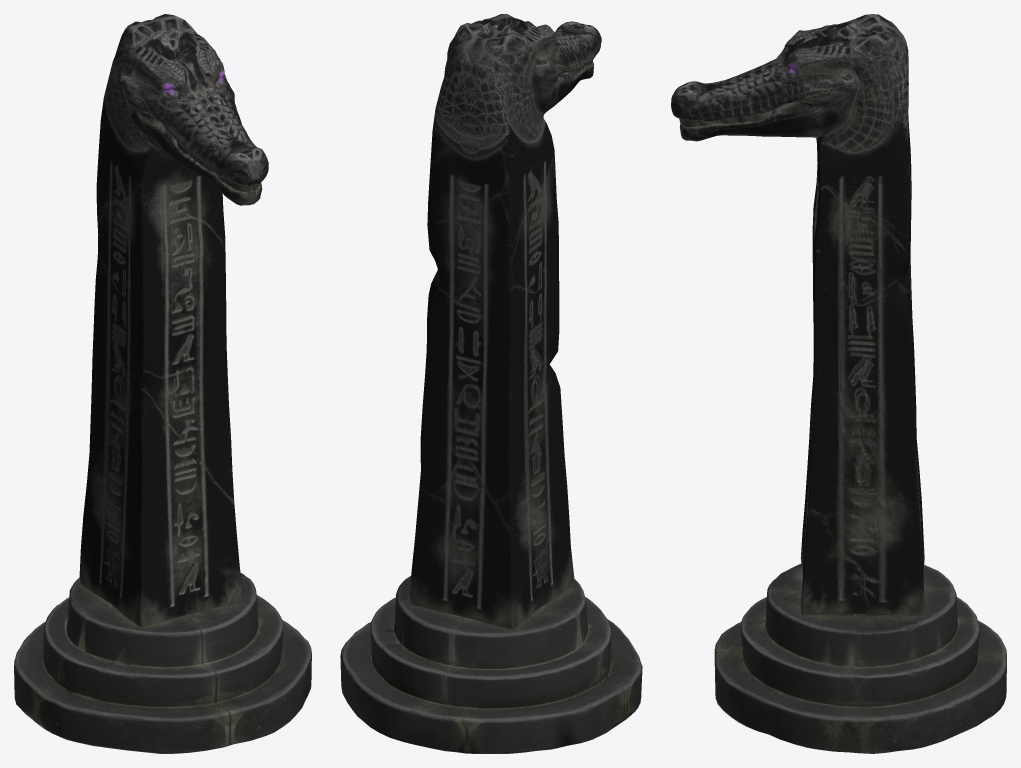
The model's file is bontus_monument.glb.
The picture shows the model from 3 angles, left to right: view 1: azimuth 30°, elevation 25°; view 2: azimuth 150°, elevation 25°; view 3: azimuth 270°, elevation 25°; orthographic projection.
Bounding box in the file's own units: 0.4102 × 0.9998 × 0.4576.
1 material, 1 textured.
